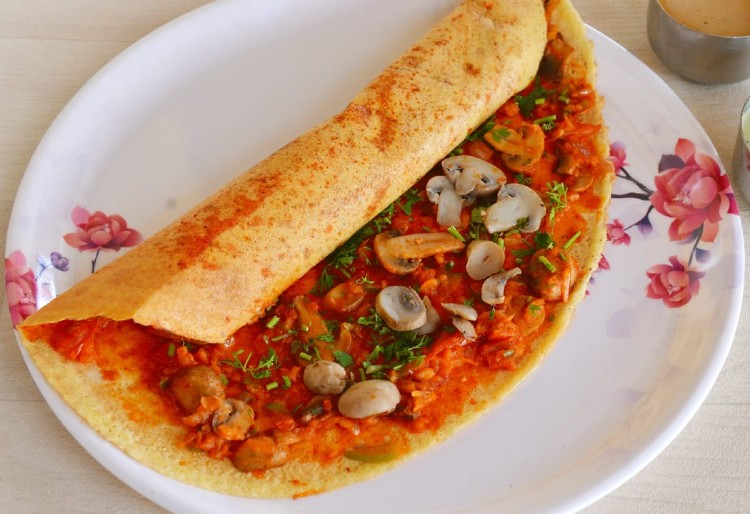dosa: (14, 1, 659, 514)
